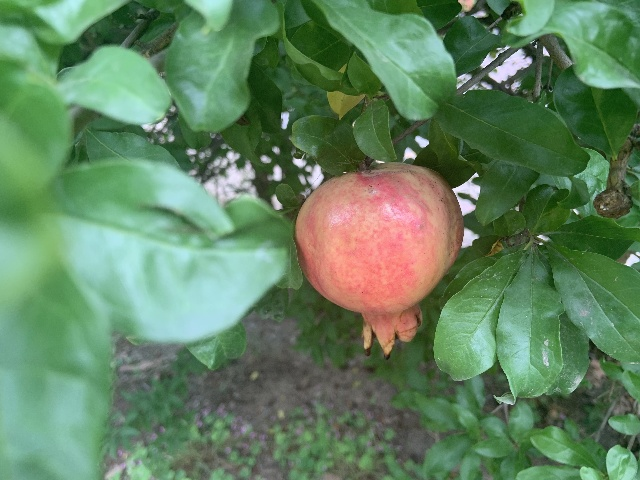ripe: (293, 164, 463, 358)
